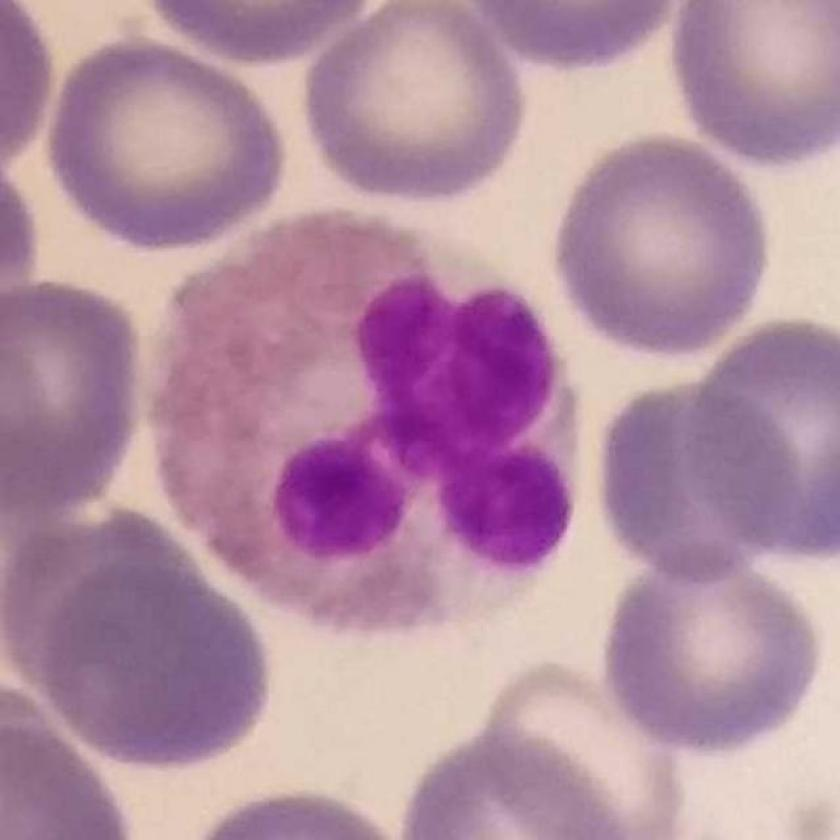eosinophil: (151, 198, 585, 647)
